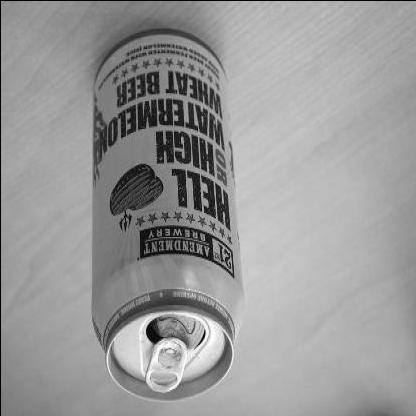alumunium_can: (87, 26, 242, 398)
